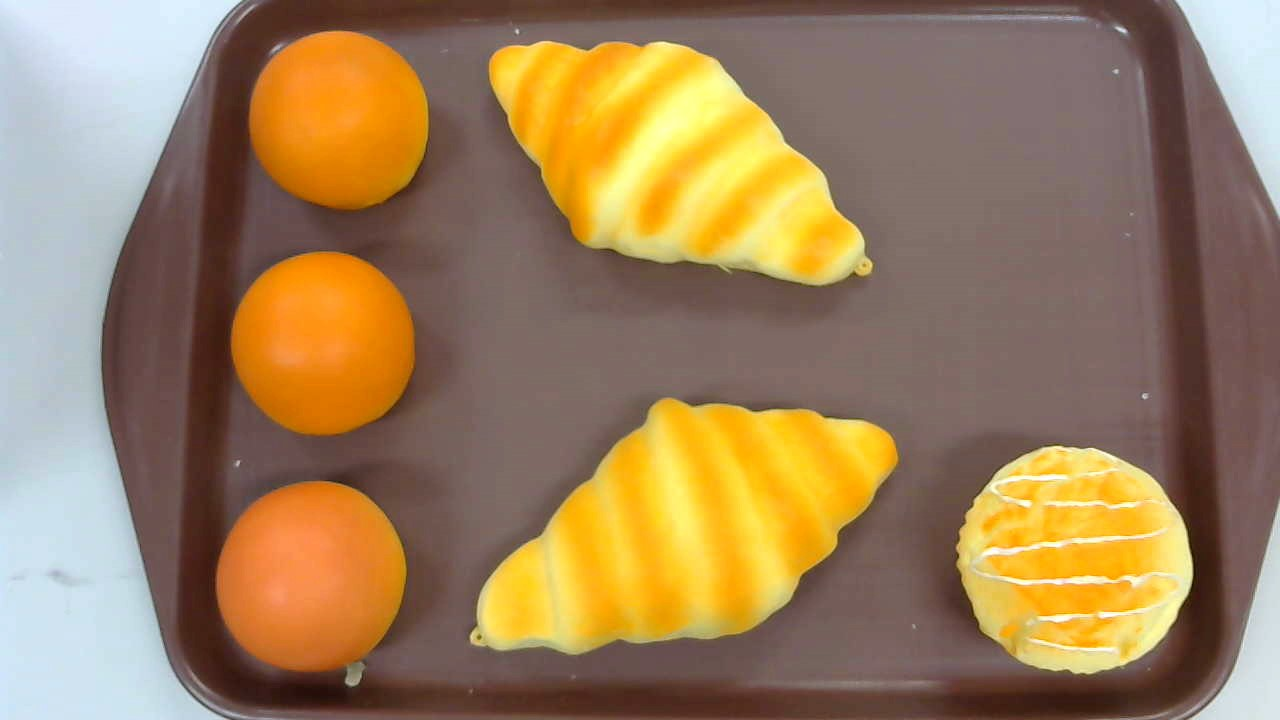bun: (216, 481, 407, 670), (229, 249, 414, 437), (247, 29, 428, 211)
croissant: (468, 397, 899, 655), (488, 40, 874, 287)
cupcake: (956, 443, 1194, 675)
